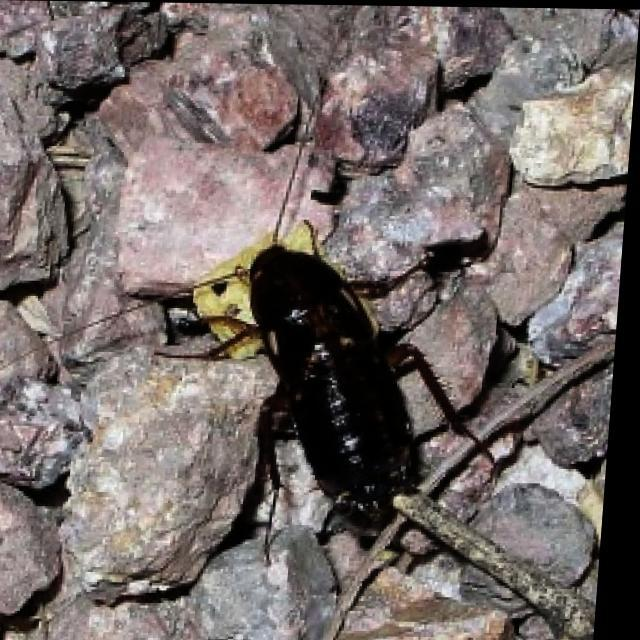cockroach: (198, 178, 458, 584)
